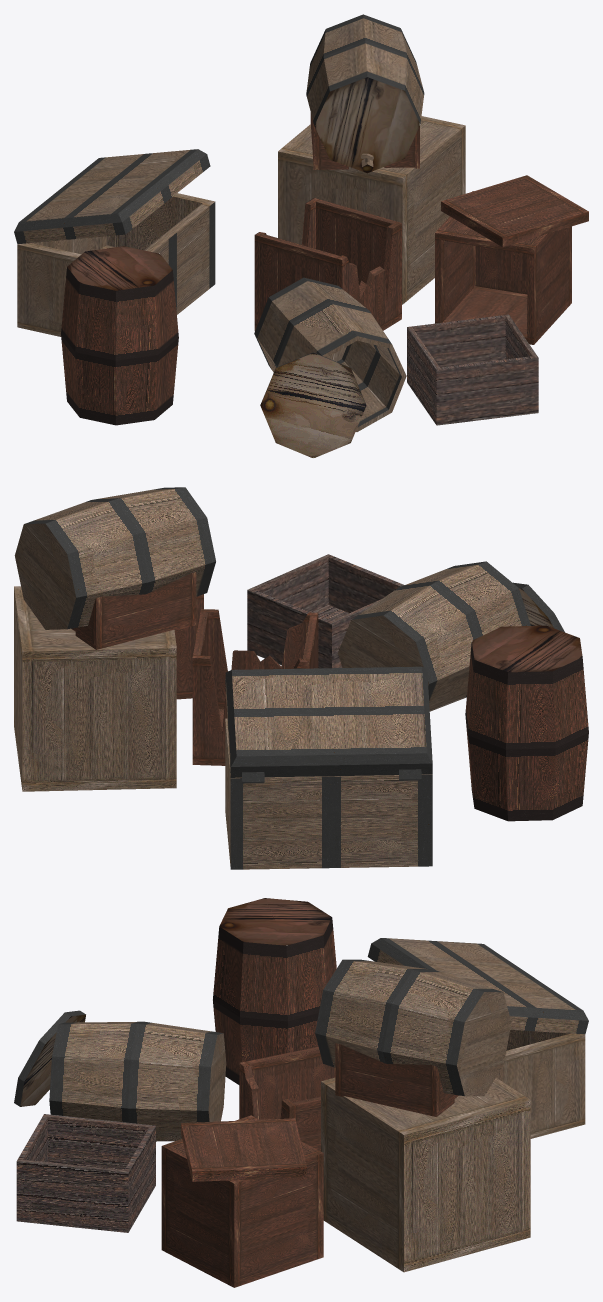
The model's file is Crates_and_barrels.glb.
The picture shows the model from 3 angles, top to bottom: view 1: azimuth 30°, elevation 25°; view 2: azimuth 150°, elevation 25°; view 3: azimuth 270°, elevation 25°; orthographic projection. The views are drawn at different scales.
Visible parts, largest first — view 1: Barrel_1, Crate_1, Barrel_2_keg, Crate_1_open, Crate_2, Crate_Broken, Chest_1, Barrel_1_open, Chest_1_lid, Barrel_lid, Crate_lid, Barrel_Stand; view 2: Crate_1, Chest_1_lid, Barrel_1, Chest_1, Barrel_2_keg, Barrel_1_open, Crate_2, Crate_Broken, Barrel_Stand, Crate_1_open, Barrel_lid; view 3: Crate_1, Barrel_2_keg, Barrel_1_open, Barrel_1, Crate_1_open, Crate_2, Chest_1_lid, Chest_1, Crate_lid, Crate_Broken, Barrel_Stand, Barrel_lid.
Boxes of the visible parts, bbox=[...] form: Barrel_1: bbox=[61, 246, 178, 425]; Crate_1: bbox=[278, 116, 465, 304]; Barrel_2_keg: bbox=[306, 14, 424, 173]; Crate_1_open: bbox=[435, 191, 571, 344]; Crate_2: bbox=[407, 314, 538, 425]; Crate_Broken: bbox=[254, 198, 401, 330]; Chest_1: bbox=[17, 193, 215, 336]; Barrel_1_open: bbox=[254, 277, 406, 431]; Chest_1_lid: bbox=[14, 149, 210, 244]; Barrel_lid: bbox=[260, 352, 366, 458]; Crate_lid: bbox=[441, 175, 588, 247]; Barrel_Stand: bbox=[310, 112, 419, 169]; Crate_1: bbox=[14, 586, 176, 791]; Chest_1_lid: bbox=[225, 666, 432, 777]; Barrel_1: bbox=[465, 625, 588, 821]; Chest_1: bbox=[225, 718, 432, 869]; Barrel_2_keg: bbox=[14, 487, 215, 629]; Barrel_1_open: bbox=[338, 561, 530, 711]; Crate_2: bbox=[247, 554, 404, 668]; Crate_Broken: bbox=[192, 609, 318, 765]; Barrel_Stand: bbox=[71, 572, 196, 649]; Crate_1_open: bbox=[174, 594, 203, 699]; Barrel_lid: bbox=[513, 582, 564, 632]; Crate_1: bbox=[321, 1077, 530, 1272]; Barrel_2_keg: bbox=[315, 959, 511, 1096]; Barrel_1_open: bbox=[49, 1021, 226, 1141]; Barrel_1: bbox=[213, 898, 336, 1084]; Crate_1_open: bbox=[161, 1115, 323, 1287]; Crate_2: bbox=[16, 1114, 155, 1232]; Chest_1_lid: bbox=[367, 938, 588, 1034]; Chest_1: bbox=[496, 1030, 585, 1138]; Crate_lid: bbox=[181, 1118, 306, 1181]; Crate_Broken: bbox=[239, 1046, 335, 1151]; Barrel_Stand: bbox=[335, 1043, 458, 1116]; Barrel_lid: bbox=[14, 1010, 85, 1106].
Bounding box in the file's own units: 2.9 × 1.38 × 2.76.
2 materials, 2 textured.
